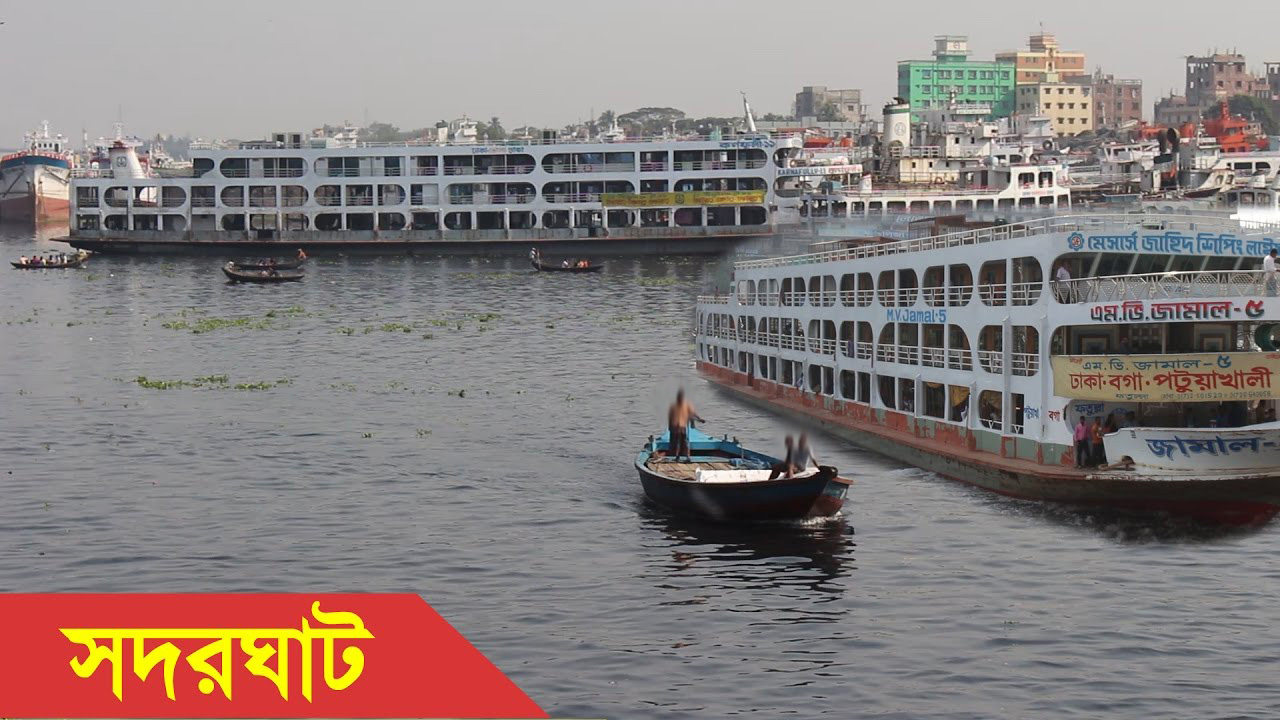boat: (633, 417, 855, 523), (11, 250, 98, 271), (231, 253, 311, 273), (530, 260, 605, 275), (222, 269, 302, 282)
launch: (697, 209, 1280, 520), (49, 119, 865, 254), (798, 142, 1082, 215), (1089, 146, 1278, 200), (1, 116, 72, 231), (1071, 141, 1172, 202)
